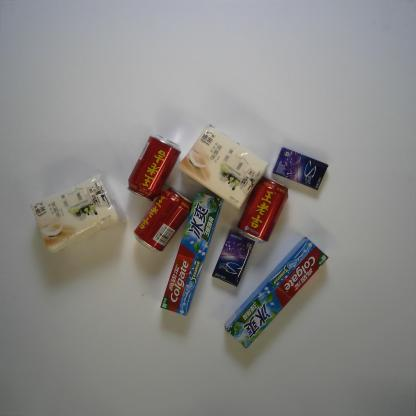Drink: (133, 184, 193, 254), (127, 132, 182, 202), (236, 175, 289, 246)
Gum: (271, 146, 330, 191), (212, 228, 255, 288)
Personal Hygiene: (224, 235, 328, 350), (158, 189, 224, 316)
Tissue: (175, 123, 271, 210), (29, 172, 122, 256)
